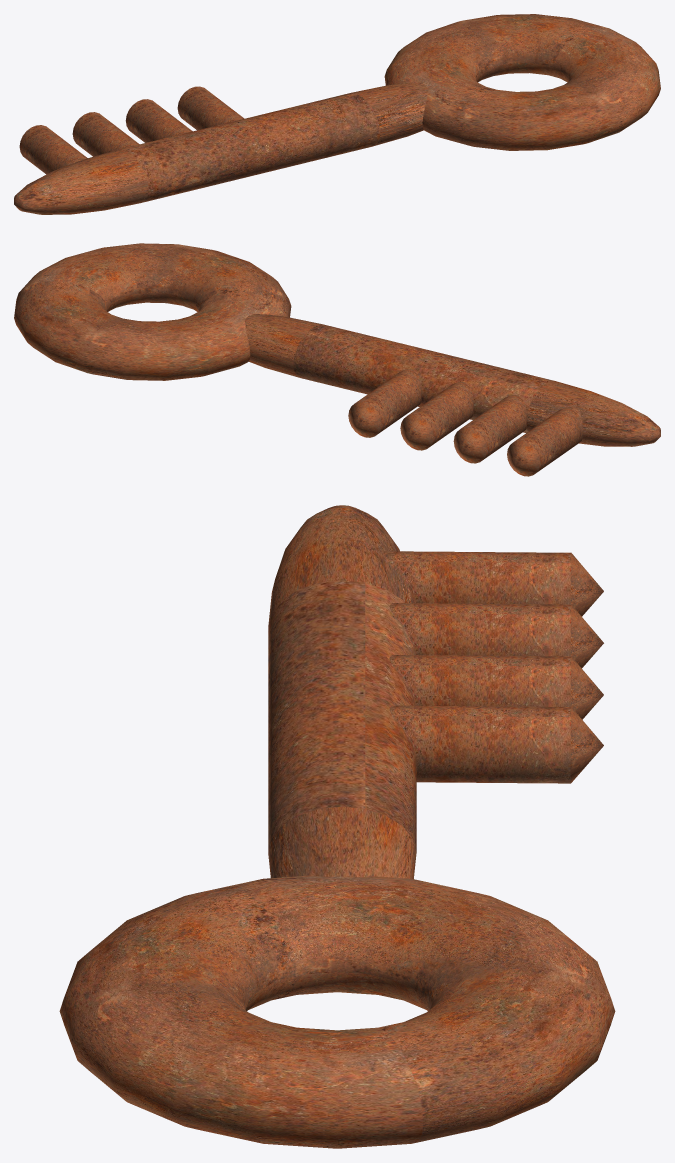
Rendered from Rusty_Key.fbx.
3 views of the same model, one above another, from view 1: azimuth 30°, elevation 25°; view 2: azimuth 150°, elevation 25°; view 3: azimuth 270°, elevation 25° (orthographic). The views are drawn at different scales.
Parts seen in each view (by area): view 1: Key_Neck; view 2: Key_Neck; view 3: Key_Neck.
Boxes of the visible parts, box(x1,y1,x2,y2) form: Key_Neck: box(14, 14, 660, 214); Key_Neck: box(14, 243, 660, 476); Key_Neck: box(59, 505, 615, 1148).
Bounding box in the file's own units: 135 × 9.62 × 51.86.
